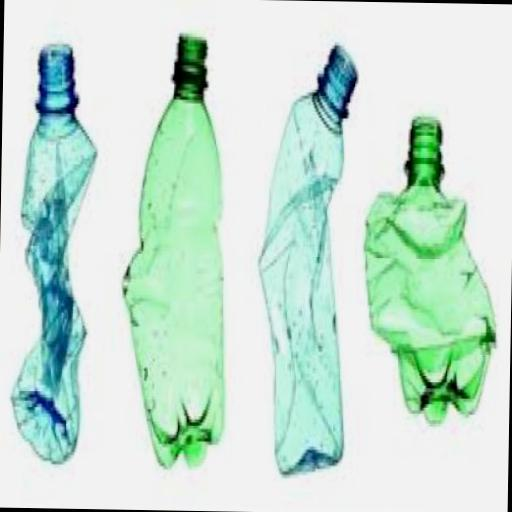plastic: (117, 29, 229, 464), (253, 34, 356, 474), (362, 115, 500, 421), (8, 44, 98, 462)
